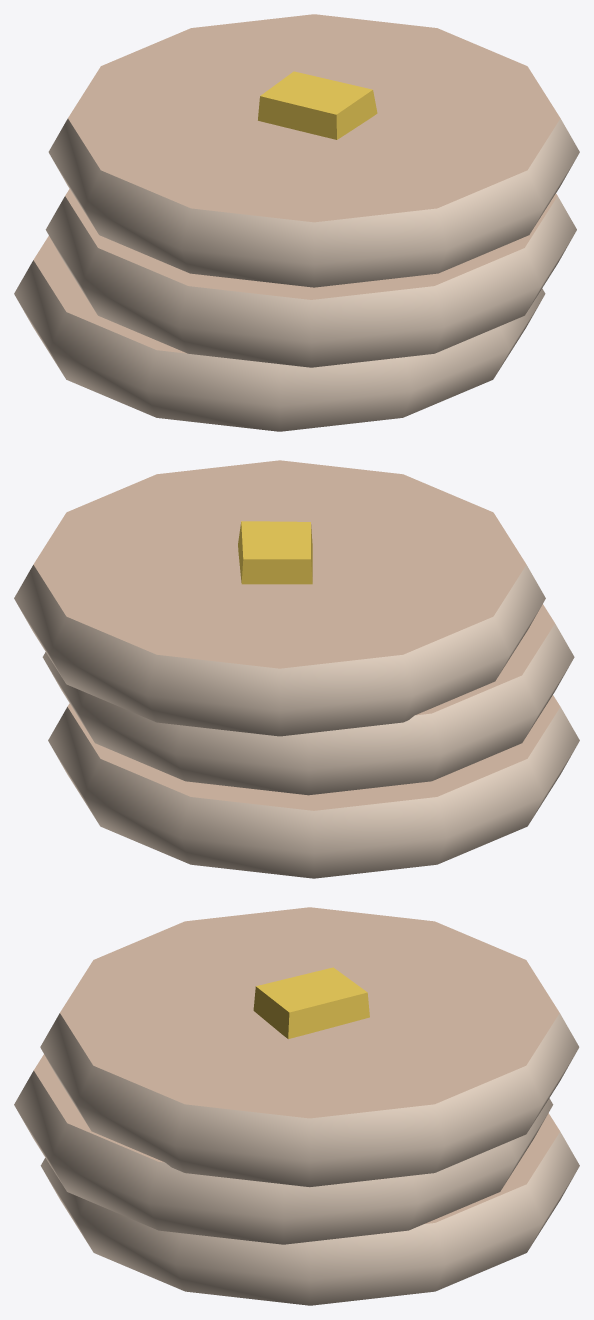
The model's file is SM_Pancake_2_01.fbx.
3 views of the same model, one above another, from view 1: azimuth 30°, elevation 25°; view 2: azimuth 150°, elevation 25°; view 3: azimuth 270°, elevation 25° (orthographic).
Parts seen in each view (by area): view 1: SM_Pancake_2_01; view 2: SM_Pancake_2_01; view 3: SM_Pancake_2_01.
Part boxes in pixels (left/top/right/bottom): SM_Pancake_2_01: left=14, top=14, right=579, bottom=431; SM_Pancake_2_01: left=14, top=460, right=579, bottom=878; SM_Pancake_2_01: left=14, top=907, right=579, bottom=1305.
Bounding box in the file's own units: 19.89 × 8.66 × 19.43.
